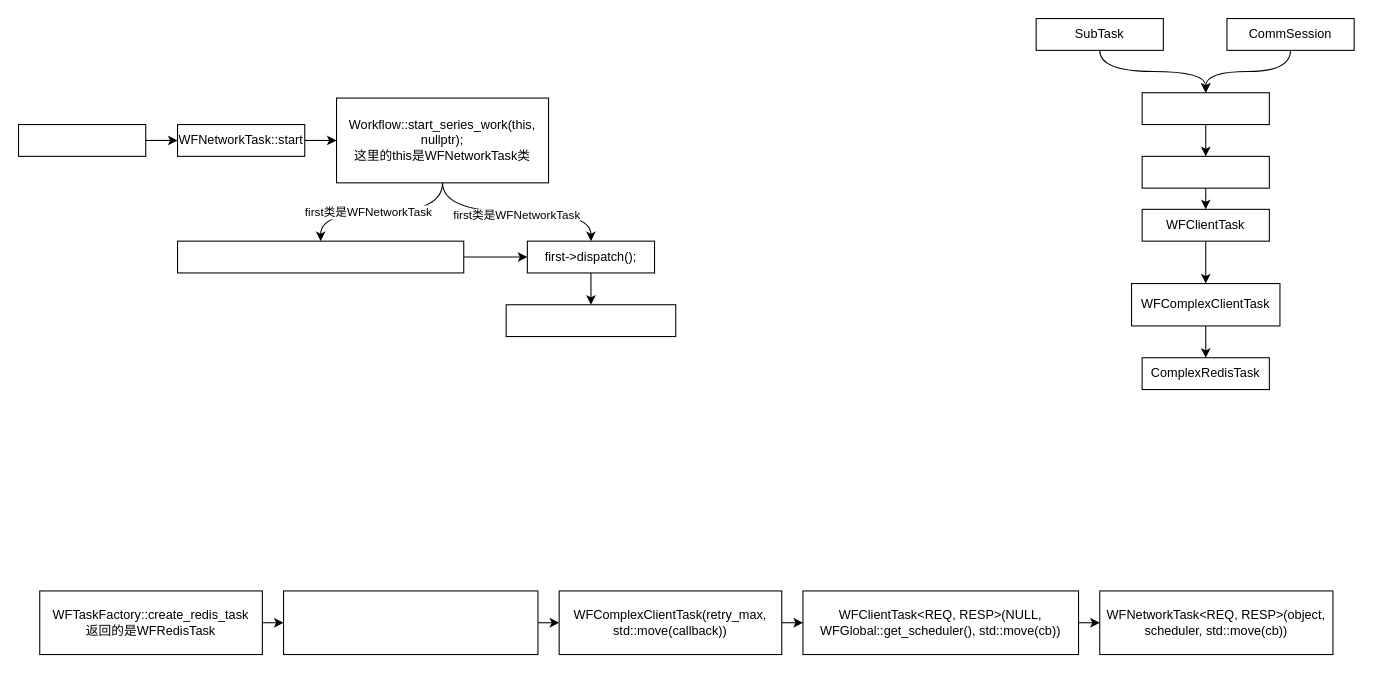
The diagram is 1373 pixels wide and 673 high, and some of its shapes have lost their labels. The centre of each missing label's shape, as x and y in pixels:
"CommRequest" belongs at [1205,108].
"CommRequest::dispatch()" belongs at [590,320].
"new ComplexRedisTask(retry_max, std::move(callback));" belongs at [410,622].
"new SeriesWork(first, std::move(callback));" belongs at [320,256].
"WFNetworkTask" belongs at [1205,171].
"WFRedisTask::start" belongs at [81,139].
